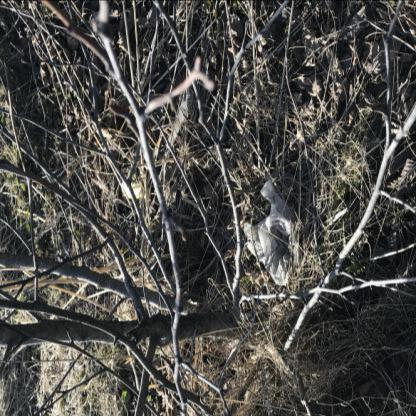Plastic bag - wrapper: (244, 179, 300, 286)
Unlabeled litter: (124, 180, 152, 202)
